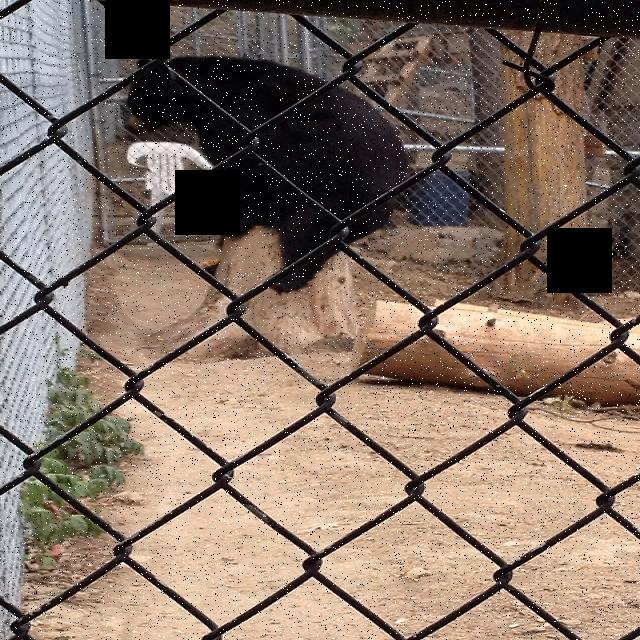Bear: (107, 53, 400, 285)
